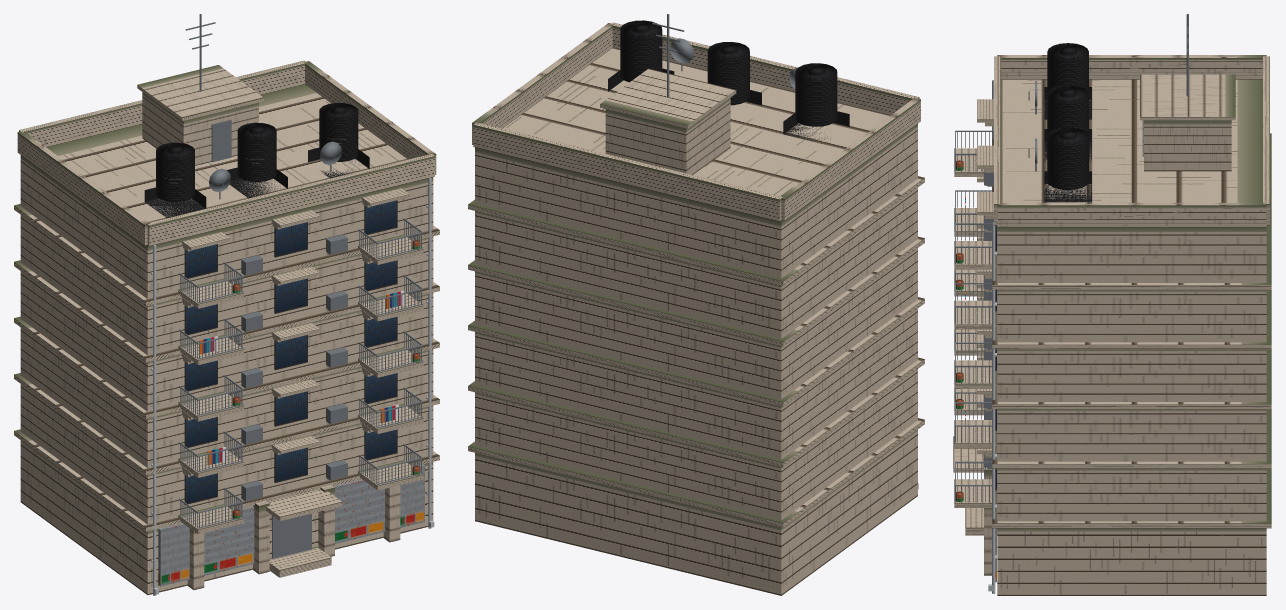
Rendered from mumbai_urban_building_aaa.glb.
3 views of the same model, side by side, from view 1: azimuth 30°, elevation 25°; view 2: azimuth 150°, elevation 25°; view 3: azimuth 270°, elevation 25° (orthographic). The views are drawn at different scales.
Visible parts, largest first — view 1: Residential_Walls_node, Rooftop_Structure_node, Ground_Structure_node, Windows_Glass_node, Balcony_Slabs_node, Balcony_Metal_Railings_node, Sintex_Water_Tanks_node, Shop_Fronts_node, AC_Compressor_Units_node, PVC_Drainage_Downspouts_node, Entrance_Gate_node, Telecom_Antennas_Dishes_node (+2 smaller); view 2: Residential_Walls_node, Ground_Structure_node, Rooftop_Structure_node, Sintex_Water_Tanks_node, Telecom_Antennas_Dishes_node; view 3: Residential_Walls_node, Rooftop_Structure_node, Ground_Structure_node, Balcony_Slabs_node, Sintex_Water_Tanks_node, Balcony_Metal_Railings_node, PVC_Drainage_Downspouts_node, AC_Compressor_Units_node, Telecom_Antennas_Dishes_node, Balcony_Potted_Plants_node.
Boxes of the visible parts, left/top/right/bottom form: Residential_Walls_node: left=14, top=84, right=439, bottom=531; Rooftop_Structure_node: left=17, top=60, right=436, bottom=246; Ground_Structure_node: left=20, top=440, right=433, bottom=594; Windows_Glass_node: left=184, top=200, right=397, bottom=504; Balcony_Slabs_node: left=178, top=234, right=423, bottom=534; Balcony_Metal_Railings_node: left=179, top=218, right=423, bottom=528; Sintex_Water_Tanks_node: left=144, top=103, right=369, bottom=217; Shop_Fronts_node: left=158, top=464, right=424, bottom=586; AC_Compressor_Units_node: left=241, top=234, right=347, bottom=501; PVC_Drainage_Downspouts_node: left=151, top=177, right=434, bottom=595; Entrance_Gate_node: left=272, top=513, right=311, bottom=558; Telecom_Antennas_Dishes_node: left=185, top=14, right=341, bottom=199; Residential_Walls_node: left=468, top=48, right=924, bottom=527; Ground_Structure_node: left=475, top=429, right=917, bottom=595; Rooftop_Structure_node: left=472, top=22, right=920, bottom=221; Sintex_Water_Tanks_node: left=608, top=20, right=849, bottom=143; Telecom_Antennas_Dishes_node: left=652, top=14, right=797, bottom=97; Residential_Walls_node: left=977, top=79, right=1271, bottom=528; Rooftop_Structure_node: left=994, top=55, right=1269, bottom=226; Ground_Structure_node: left=953, top=436, right=1266, bottom=595; Balcony_Slabs_node: left=954, top=148, right=996, bottom=507; Sintex_Water_Tanks_node: left=1044, top=43, right=1091, bottom=202; Balcony_Metal_Railings_node: left=955, top=130, right=993, bottom=502; PVC_Drainage_Downspouts_node: left=988, top=80, right=996, bottom=593; AC_Compressor_Units_node: left=984, top=169, right=993, bottom=468; Telecom_Antennas_Dishes_node: left=1028, top=14, right=1188, bottom=171; Balcony_Potted_Plants_node: left=956, top=160, right=963, bottom=502.
Size of the model in its own units: 18 by 28.1 by 15.95.
8 materials, 6 textured.
